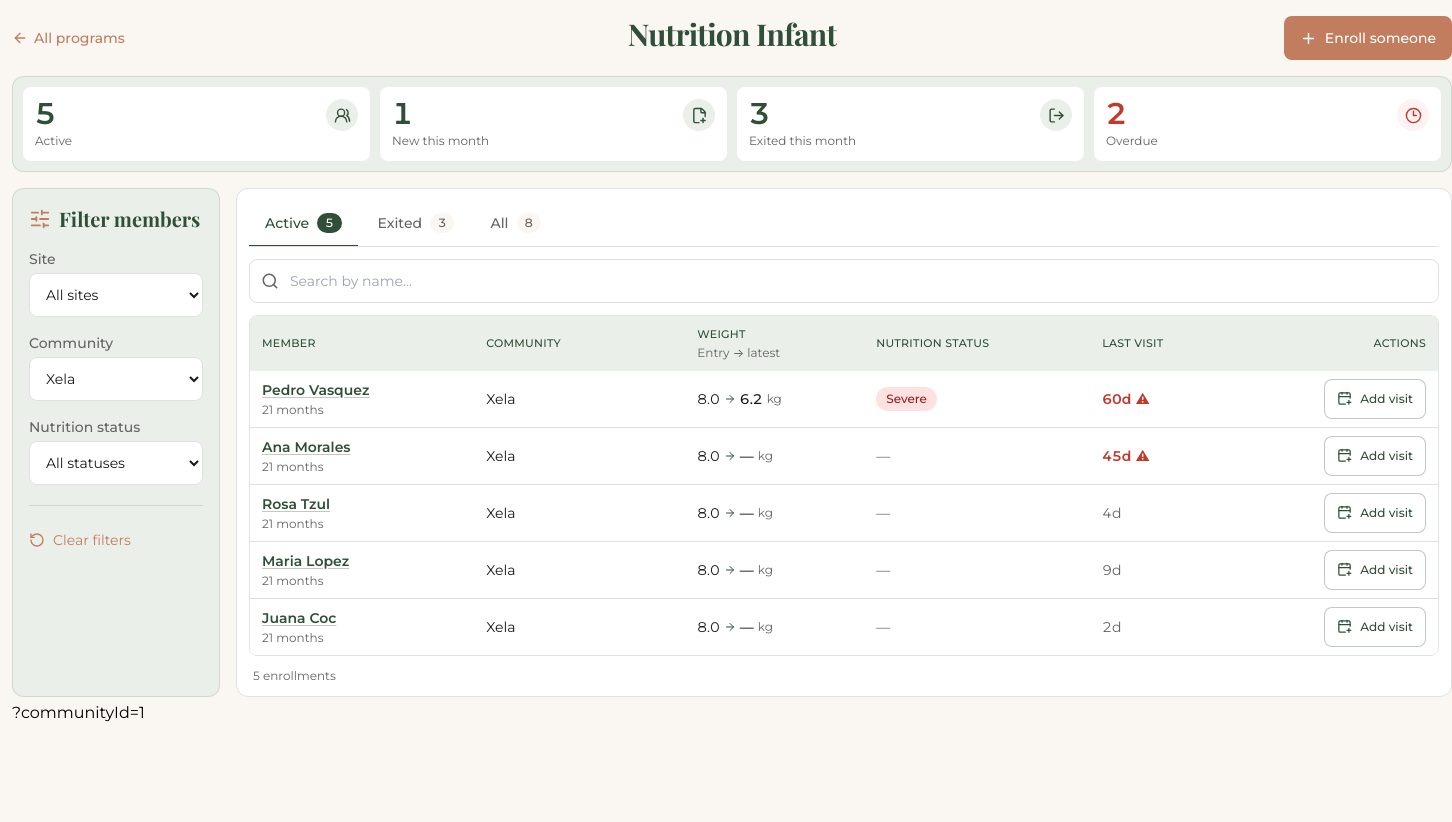
Test: ProgramRosterPage › resets an incompatible community when the site changes
The image size is (1452, 822).
Select "Valley" in the dropdown labelled "Site" at {"x": 116, "y": 295}, box [29, 273, 203, 317]
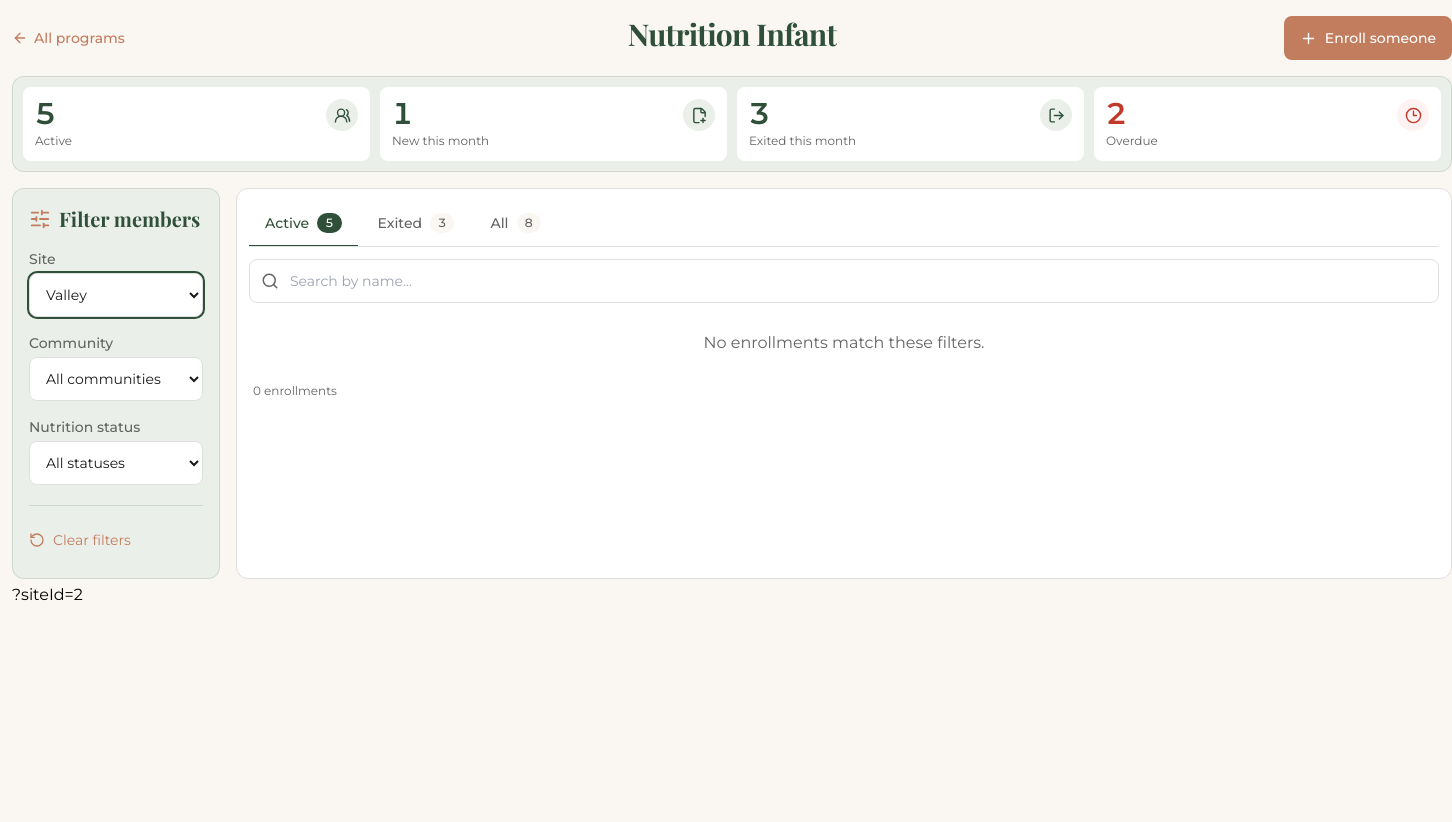
expect the dropdown labelled "Community" shows "All communities": met, box [29, 357, 203, 401]
expect the cell "Xela" is gone: met
expect the text with test id "route-query" reads "?siteId=2": met, box [12, 585, 83, 604]
